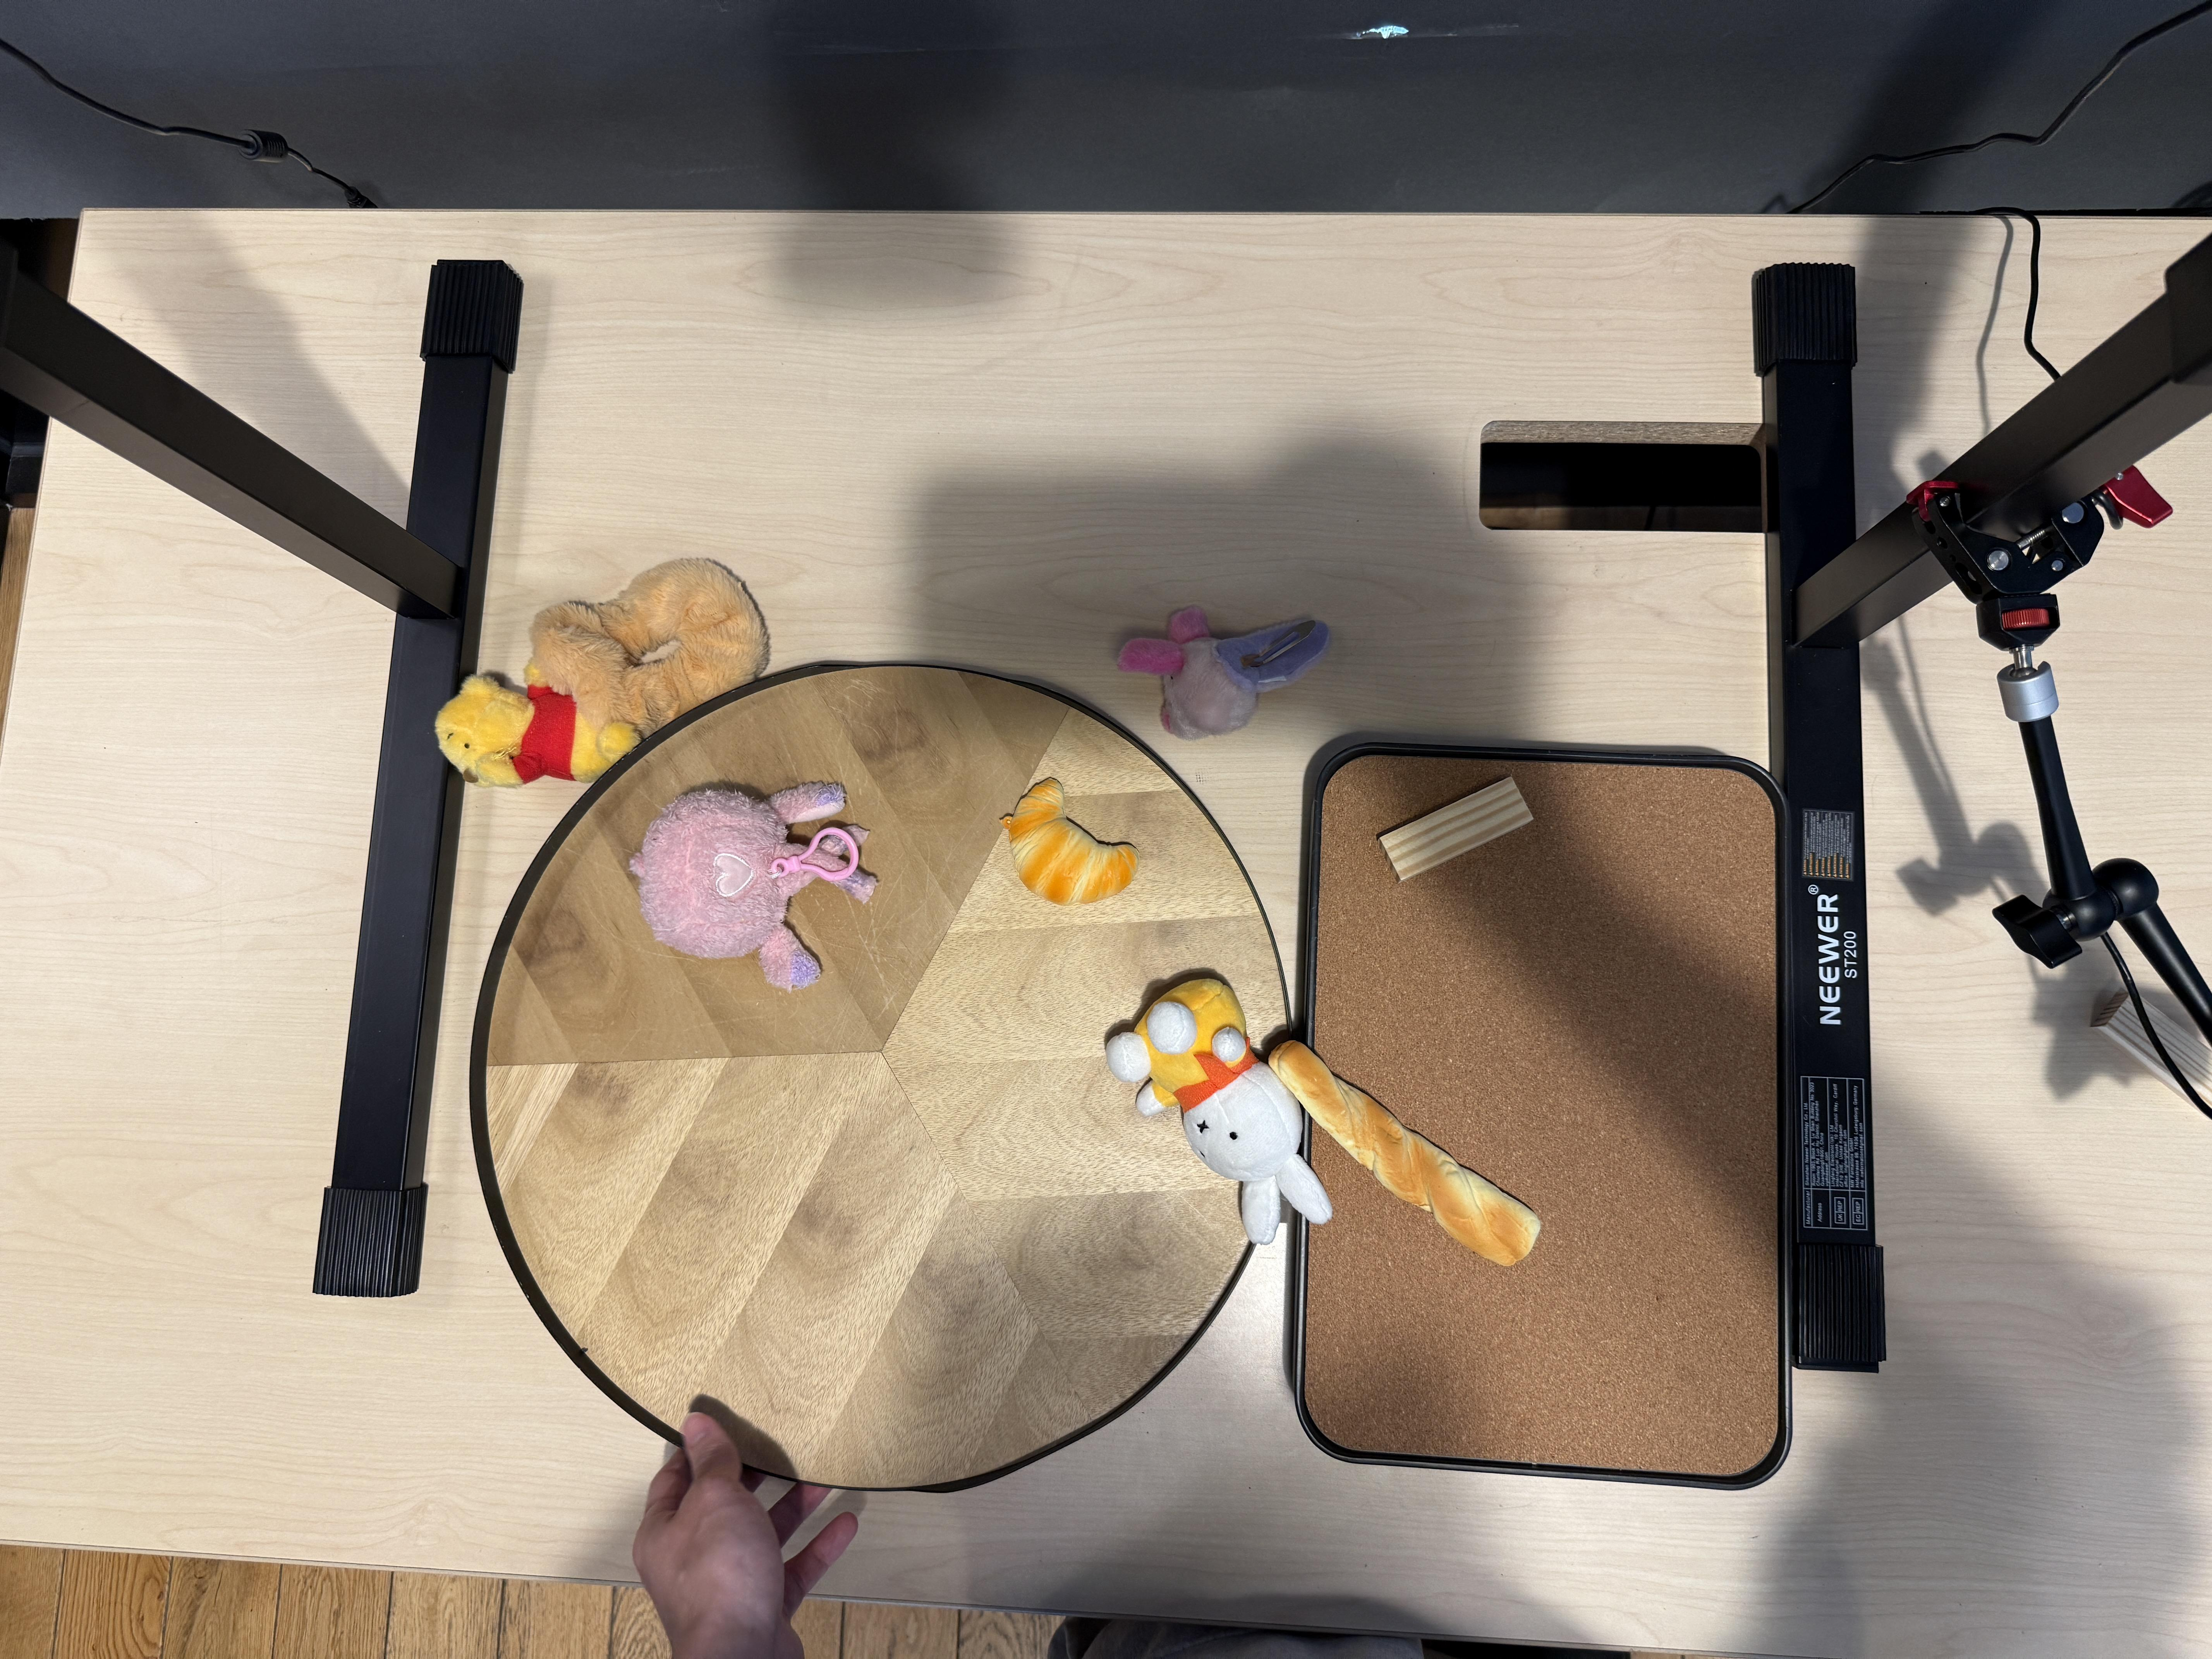block: (1379, 770, 1540, 887)
bread: (1270, 1040, 1547, 1270), (1003, 781, 1136, 908)
doll: (435, 558, 772, 779), (1106, 971, 1334, 1246), (636, 786, 881, 992), (1120, 603, 1334, 739)
